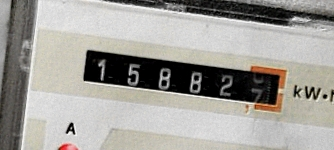1: (94, 56, 109, 83)
2: (217, 72, 236, 99)
5: (124, 61, 142, 88)
7: (248, 85, 265, 104)
8: (155, 65, 175, 92), (187, 69, 205, 96)
screen: (71, 37, 296, 123)
